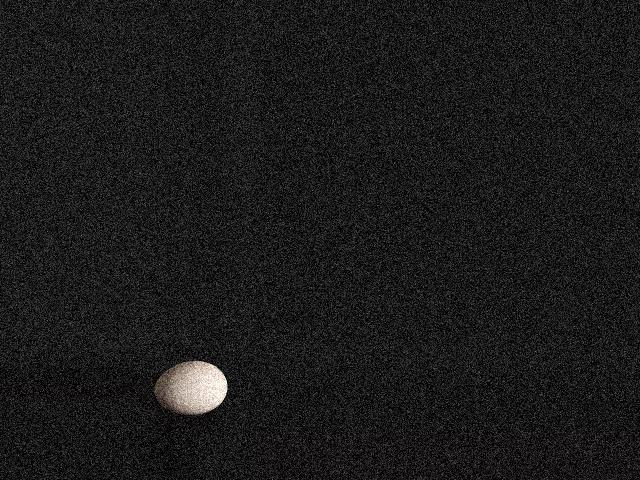egg: (155, 361, 228, 414)
